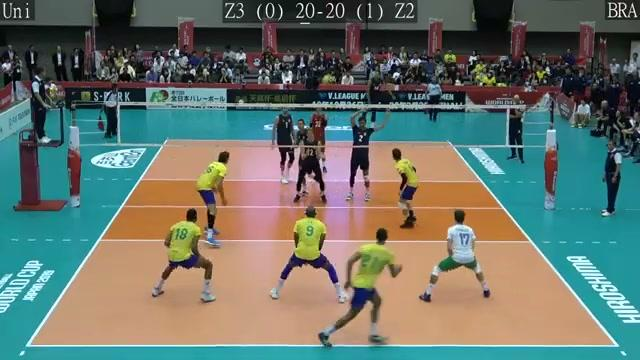ball: (317, 72, 337, 88)
